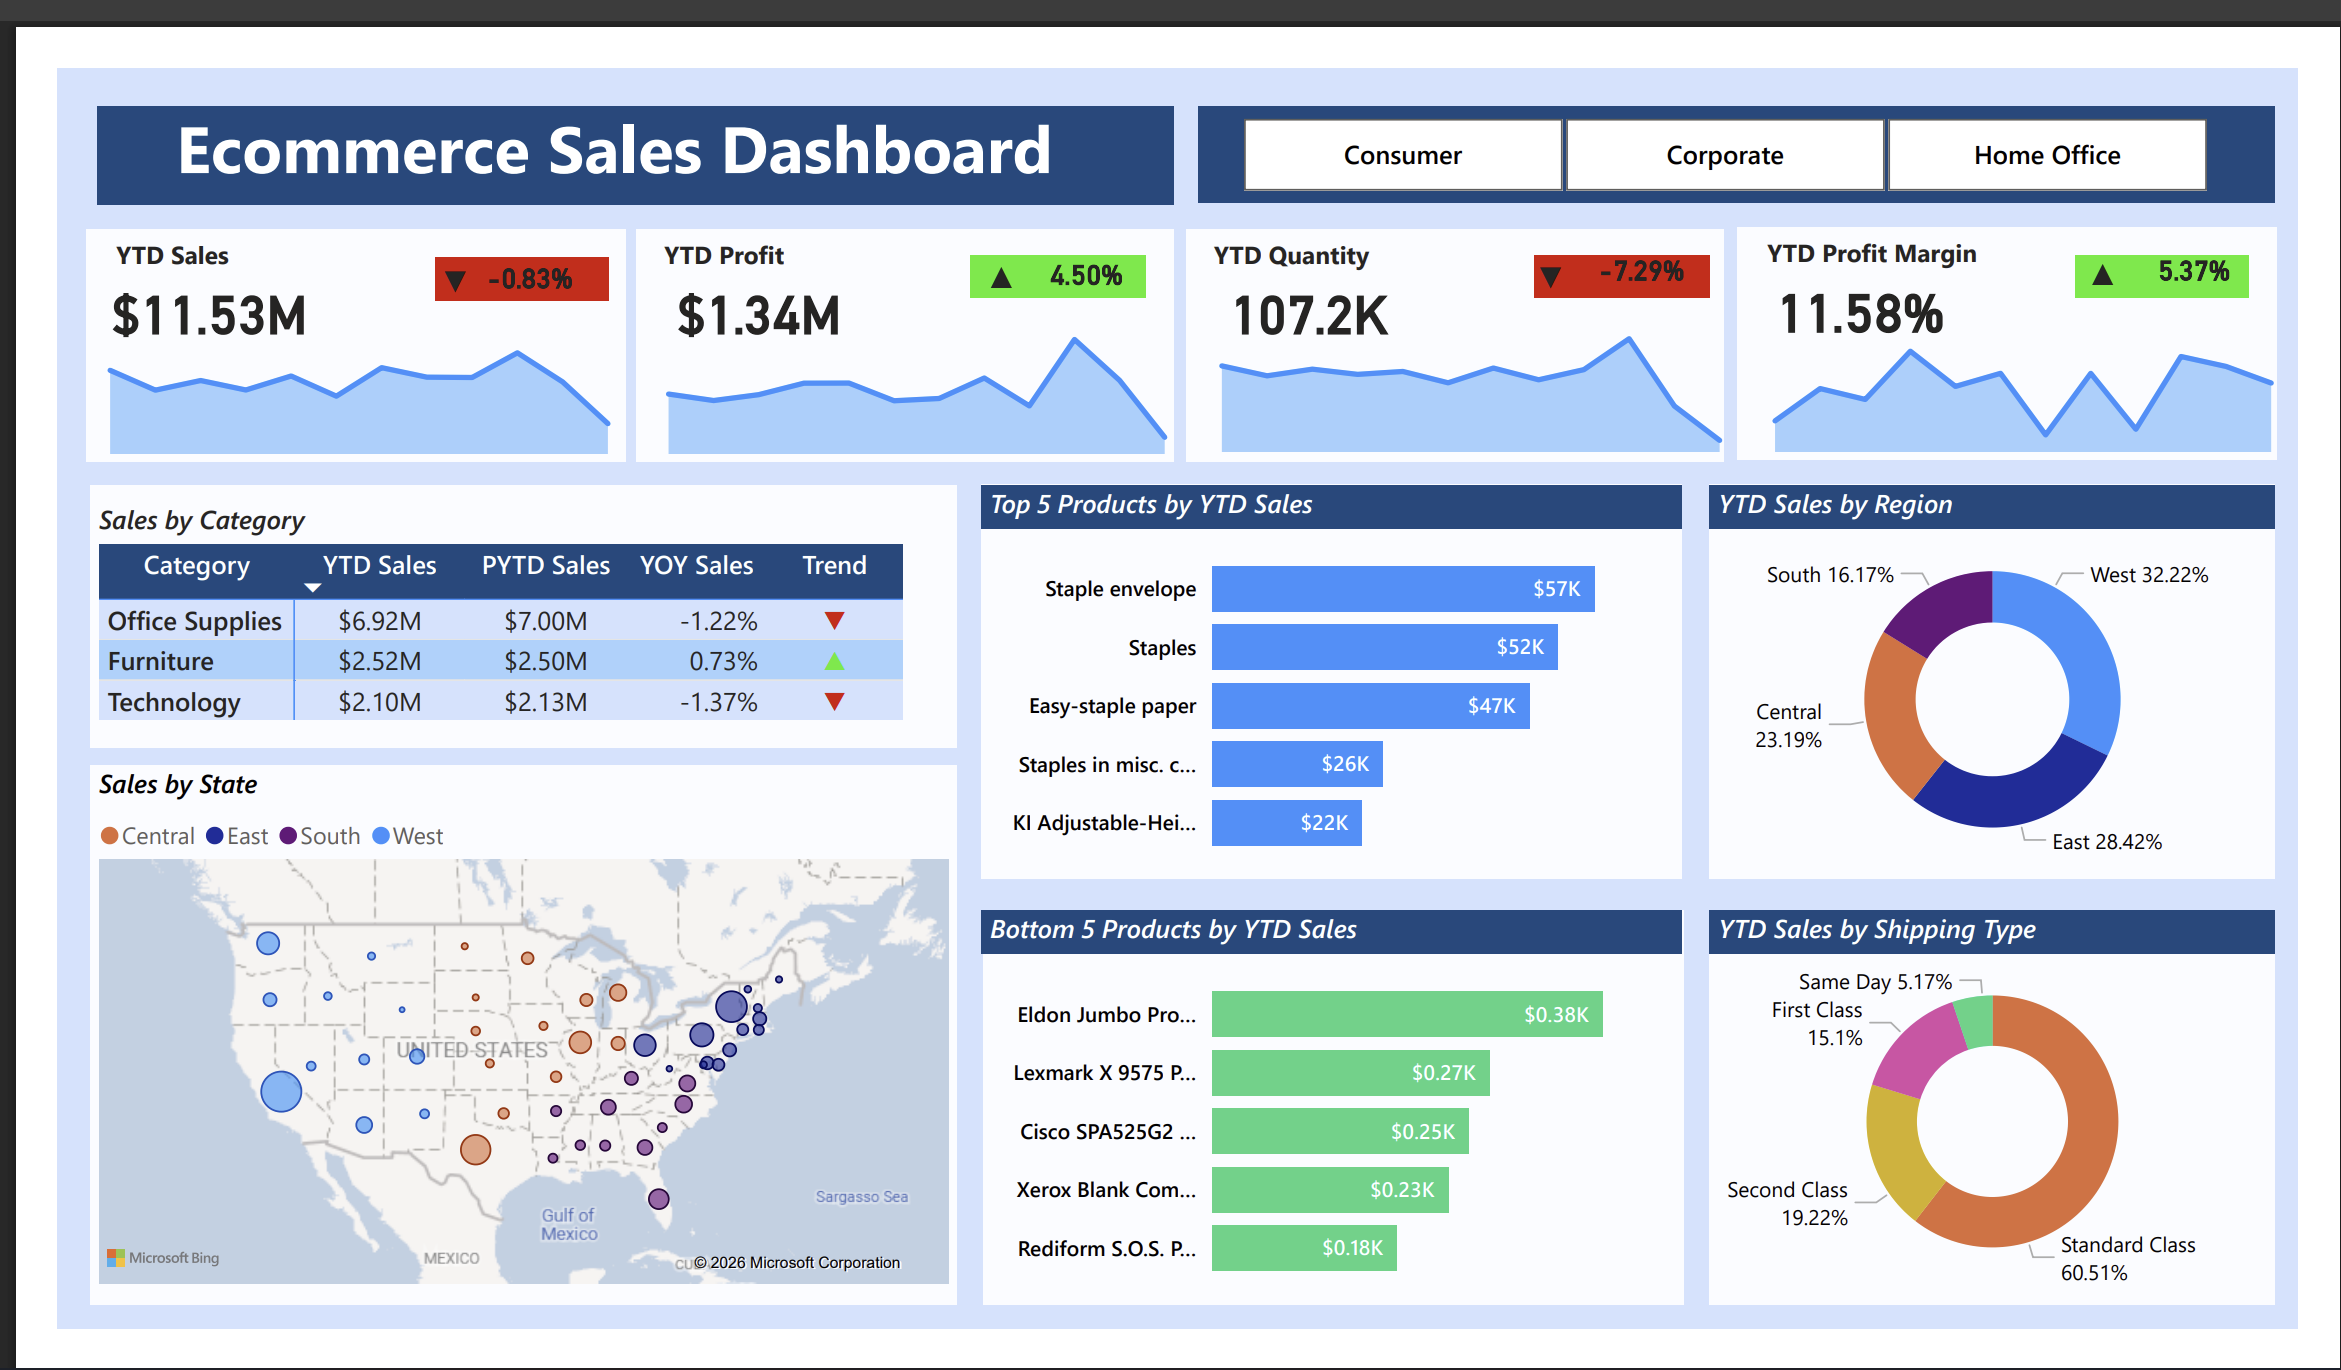

The page's visual inventory and layout, read from the dashboard file:
{"tool":"powerbi","page":{"name":"Page 1","canvas":[1280,720],"ordinal":0},"visuals":[{"type":"shape","box":[23.3,22.1,615.1,55.8],"z":0},{"type":"textbox","box":[62.8,15.1,529.1,68.6],"z":1000},{"type":"shape","box":[17.4,92,307.2,133.1],"z":2000},{"type":"card","fields":{"Values":["ecommerce_data.YTD Sales"]},"box":[14.9,114.4,144.3,49.8],"z":3000},{"type":"areaChart","fields":{"Category":["Calender.Month"],"Y":["Sum(ecommerce_data.sales_per_order)"]},"box":[14.9,139.3,314.7,85.8],"z":4000},{"type":"shape","box":[216.3,108.1,98.8,24.4],"z":5000},{"type":"card","fields":{"Values":["ecommerce_data.YOY Sales"]},"box":[211,106.8,117.6,26.1],"z":6000},{"type":"card","fields":{"Values":["ecommerce_data.Sales icon"]},"box":[210.8,106.1,33.6,33.6],"z":7000},{"type":"textbox","box":[28.6,92,87.1,34.8],"z":8000},{"type":"shape","box":[331.2,91.9,307.2,133.1],"z":9000},{"type":"card","fields":{"Values":["ecommerce_data.YTD Profit"]},"box":[328.7,114.2,144.3,49.8],"z":10000},{"type":"areaChart","fields":{"Category":["Calender.Month"],"Y":["Sum(ecommerce_data.profit_per_order)"]},"box":[333.6,139.3,314.7,85.8],"z":11000},{"type":"shape","box":[522.1,107,100,24.4],"z":12000},{"type":"card","fields":{"Values":["ecommerce_data.YOY Profit"]},"box":[528.8,104.6,118.5,26.2],"z":13000},{"type":"card","fields":{"Values":["ecommerce_data.Profit Icon"]},"box":[522.5,104,33.6,33.6],"z":14000},{"type":"textbox","box":[342.4,91.9,87.1,34.8],"z":15000},{"type":"shape","box":[645.2,91.9,307.2,133.1],"z":16000},{"type":"card","fields":{"Values":["ecommerce_data.YTD Quantitz"]},"box":[642.7,114.2,144.3,49.8],"z":17000},{"type":"areaChart","fields":{"Category":["Calender.Month"],"Y":["Sum(ecommerce_data.order_quantity)"]},"box":[650.1,138.4,314.7,85.8],"z":18000},{"type":"shape","box":[844.2,107,100,24.4],"z":19000},{"type":"card","fields":{"Values":["ecommerce_data.YOY qty"]},"box":[845.8,103.4,118.5,26.2],"z":20000},{"type":"card","fields":{"Values":["ecommerce_data.Qty Icon"]},"box":[836.5,104,33.6,33.6],"z":21000},{"type":"textbox","box":[656.4,91.9,131,34.9],"z":22000},{"type":"shape","box":[960.3,90.7,307.2,133.1],"z":23000},{"type":"card","fields":{"Values":["ecommerce_data.YTD Profit Margin"]},"box":[957.8,113.1,144.3,49.8],"z":24000},{"type":"areaChart","fields":{"Category":["Calender.Month"],"Y":["ecommerce_data.Profit Margin"]},"box":[965.6,138.4,314.7,85.8],"z":25000},{"type":"shape","box":[1153.5,107,98.8,24.4],"z":26000},{"type":"card","fields":{"Values":["ecommerce_data.YOY Profit Margin"]},"box":[1161.5,103.4,118.5,26.2],"z":27000},{"type":"card","fields":{"Values":["ecommerce_data.Profit Margin Icon"]},"box":[1151.6,102.9,33.6,33.6],"z":28000},{"type":"textbox","box":[971.5,90.7,131,34.9],"z":29000},{"type":"shape","box":[18.7,238.3,495,150],"z":30000},{"type":"pivotTable","title":"Sales by Category","fields":{"Rows":["ecommerce_data.Category"],"Values":["ecommerce_data.YTD Sales","ecommerce_data.PYTD Sales","ecommerce_data.YOY Sales","ecommerce_data.Sales icon"]},"box":[18.7,247.1,495.4,141],"z":31000},{"type":"shape","box":[18.7,398.1,495.4,308.2],"z":32000},{"type":"map","title":"Sales by State","fields":{"X":["us_state_long_lat_codes.longitude"],"Y":["us_state_long_lat_codes.latitude"],"Size":["ecommerce_data.YTD Sales"],"Series":["ecommerce_data.customer_region"]},"box":[18.6,397.7,495.4,301.2],"z":33000},{"type":"shape","box":[527.9,238.4,400,225],"z":34000},{"type":"shape","box":[529.1,481.4,400,224.4],"z":35000},{"type":"barChart","title":"Top 5 Products by YTD Sales","fields":{"Category":["ecommerce_data.product_name"],"Y":["ecommerce_data.YTD Sales"]},"box":[527.9,238.4,400,224.4],"z":36000},{"type":"barChart","title":"Bottom 5 Products by YTD Sales","fields":{"Category":["ecommerce_data.product_name"],"Y":["ecommerce_data.YTD Sales"]},"box":[527.9,481.4,400,224.4],"z":37000},{"type":"shape","box":[944.2,238.4,323.3,224.4],"z":38000},{"type":"shape","box":[944.2,481.4,323.3,224.4],"z":39000},{"type":"donutChart","title":"YTD Sales by Region","fields":{"Category":["ecommerce_data.customer_region"],"Y":["ecommerce_data.YTD Sales"]},"box":[944.2,238.4,323.3,224.4],"z":40000},{"type":"donutChart","title":"YTD Sales by Shipping Type","fields":{"Y":["ecommerce_data.YTD Sales"],"Category":["ecommerce_data.shipping_type"]},"box":[944.2,481.4,323.3,220.9],"z":41000},{"type":"shape","box":[652.3,22.1,615.1,54.7],"z":42000},{"type":"slicer","fields":{"Values":["ecommerce_data.customer_segment"]},"box":[652.3,22.1,600,54.7],"z":43000}]}

Visuals, with their boxes on the page's 1280x720 design canvas (x1, y1, x2, y2). These are canvas units, not pixel positions in the 2341x1370 screenshot, which may show the page scaled, cropped or inside an application window:
shape: (23, 22, 638, 78)
textbox: (63, 15, 592, 84)
shape: (17, 92, 325, 225)
card - ecommerce_data.YTD Sales: (15, 114, 159, 164)
areaChart - Calender.Month x Sum(ecommerce_data.sales_per_order): (15, 139, 330, 225)
shape: (216, 108, 315, 132)
card - ecommerce_data.YOY Sales: (211, 107, 329, 133)
card - ecommerce_data.Sales icon: (211, 106, 244, 140)
textbox: (29, 92, 116, 127)
shape: (331, 92, 638, 225)
card - ecommerce_data.YTD Profit: (329, 114, 473, 164)
areaChart - Calender.Month x Sum(ecommerce_data.profit_per_order): (334, 139, 648, 225)
shape: (522, 107, 622, 131)
card - ecommerce_data.YOY Profit: (529, 105, 647, 131)
card - ecommerce_data.Profit Icon: (522, 104, 556, 138)
textbox: (342, 92, 430, 127)
shape: (645, 92, 952, 225)
card - ecommerce_data.YTD Quantitz: (643, 114, 787, 164)
areaChart - Calender.Month x Sum(ecommerce_data.order_quantity): (650, 138, 965, 224)
shape: (844, 107, 944, 131)
card - ecommerce_data.YOY qty: (846, 103, 964, 130)
card - ecommerce_data.Qty Icon: (836, 104, 870, 138)
textbox: (656, 92, 787, 127)
shape: (960, 91, 1268, 224)
card - ecommerce_data.YTD Profit Margin: (958, 113, 1102, 163)
areaChart - Calender.Month x ecommerce_data.Profit Margin: (966, 138, 1280, 224)
shape: (1154, 107, 1252, 131)
card - ecommerce_data.YOY Profit Margin: (1162, 103, 1280, 130)
card - ecommerce_data.Profit Margin Icon: (1152, 103, 1185, 136)
textbox: (972, 91, 1102, 126)
shape: (19, 238, 514, 388)
"Sales by Category" pivotTable: (19, 247, 514, 388)
shape: (19, 398, 514, 706)
"Sales by State" map: (19, 398, 514, 699)
shape: (528, 238, 928, 463)
shape: (529, 481, 929, 706)
"Top 5 Products by YTD Sales" barChart: (528, 238, 928, 463)
"Bottom 5 Products by YTD Sales" barChart: (528, 481, 928, 706)
shape: (944, 238, 1268, 463)
shape: (944, 481, 1268, 706)
"YTD Sales by Region" donutChart: (944, 238, 1268, 463)
"YTD Sales by Shipping Type" donutChart: (944, 481, 1268, 702)
shape: (652, 22, 1267, 77)
slicer - ecommerce_data.customer_segment: (652, 22, 1252, 77)
